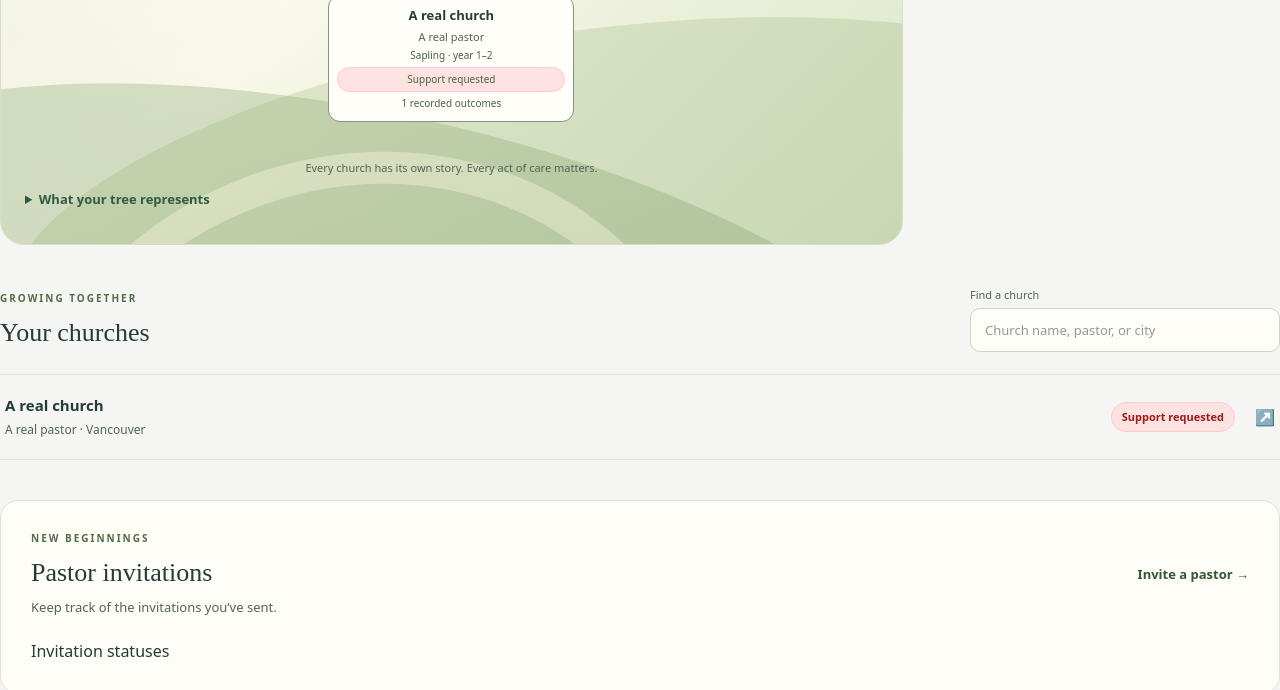
it: keeps search and no-church states honest
(page scrolled)
In the search field labelled "Find a church": (1125, 330) [970,308,1279,352], type "missing"
(page scrolled)
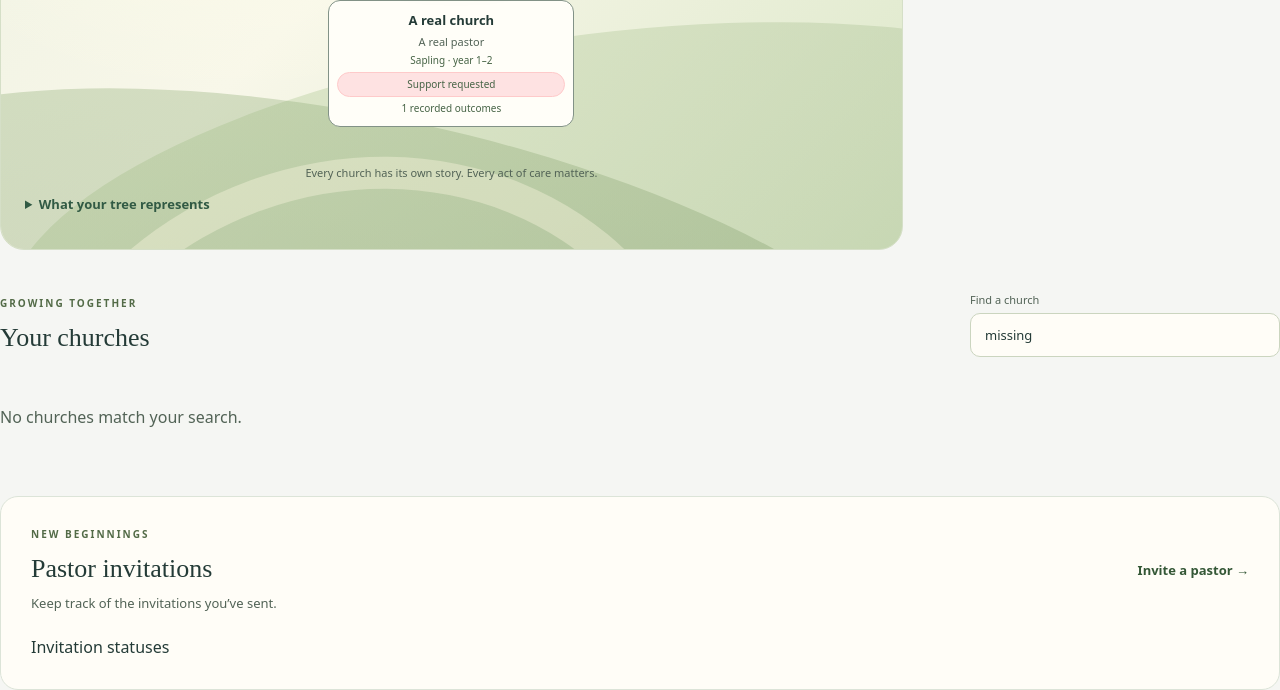
Now the text "No churches match your search." is shown, box [0,406,242,428]
